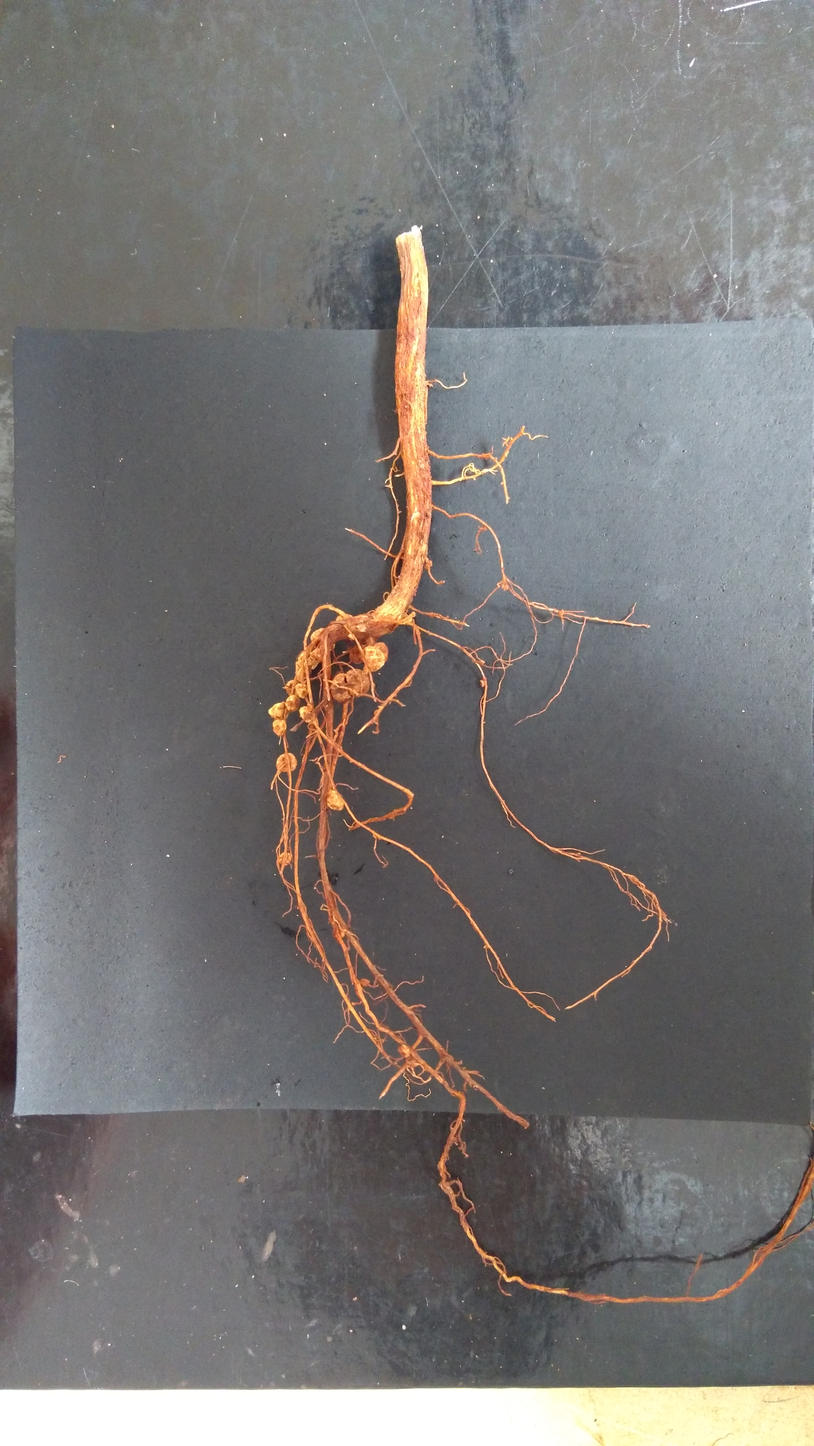nodule: (331, 668, 370, 703), (310, 627, 336, 652), (364, 646, 385, 672), (295, 651, 311, 684), (349, 644, 369, 664), (276, 752, 297, 771), (326, 789, 344, 811), (268, 702, 287, 719), (299, 703, 315, 723), (373, 642, 388, 663), (285, 694, 300, 712), (272, 719, 287, 736), (309, 647, 323, 663), (277, 852, 292, 866), (397, 1044, 411, 1058), (284, 680, 297, 695), (307, 655, 319, 670), (296, 683, 307, 699), (405, 1055, 418, 1068), (333, 927, 345, 940), (336, 614, 354, 621), (423, 559, 432, 570), (359, 978, 370, 987), (501, 583, 510, 592), (347, 633, 355, 642), (478, 659, 486, 666), (480, 679, 485, 688), (500, 481, 504, 486)
